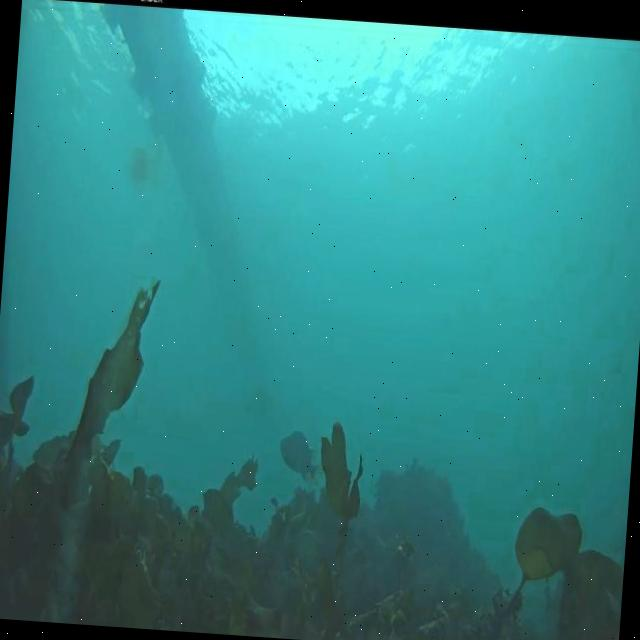fish: (278, 432, 324, 486)
